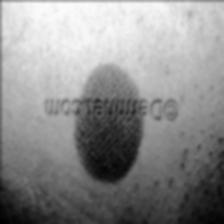Toxin: (78, 60, 144, 184)
